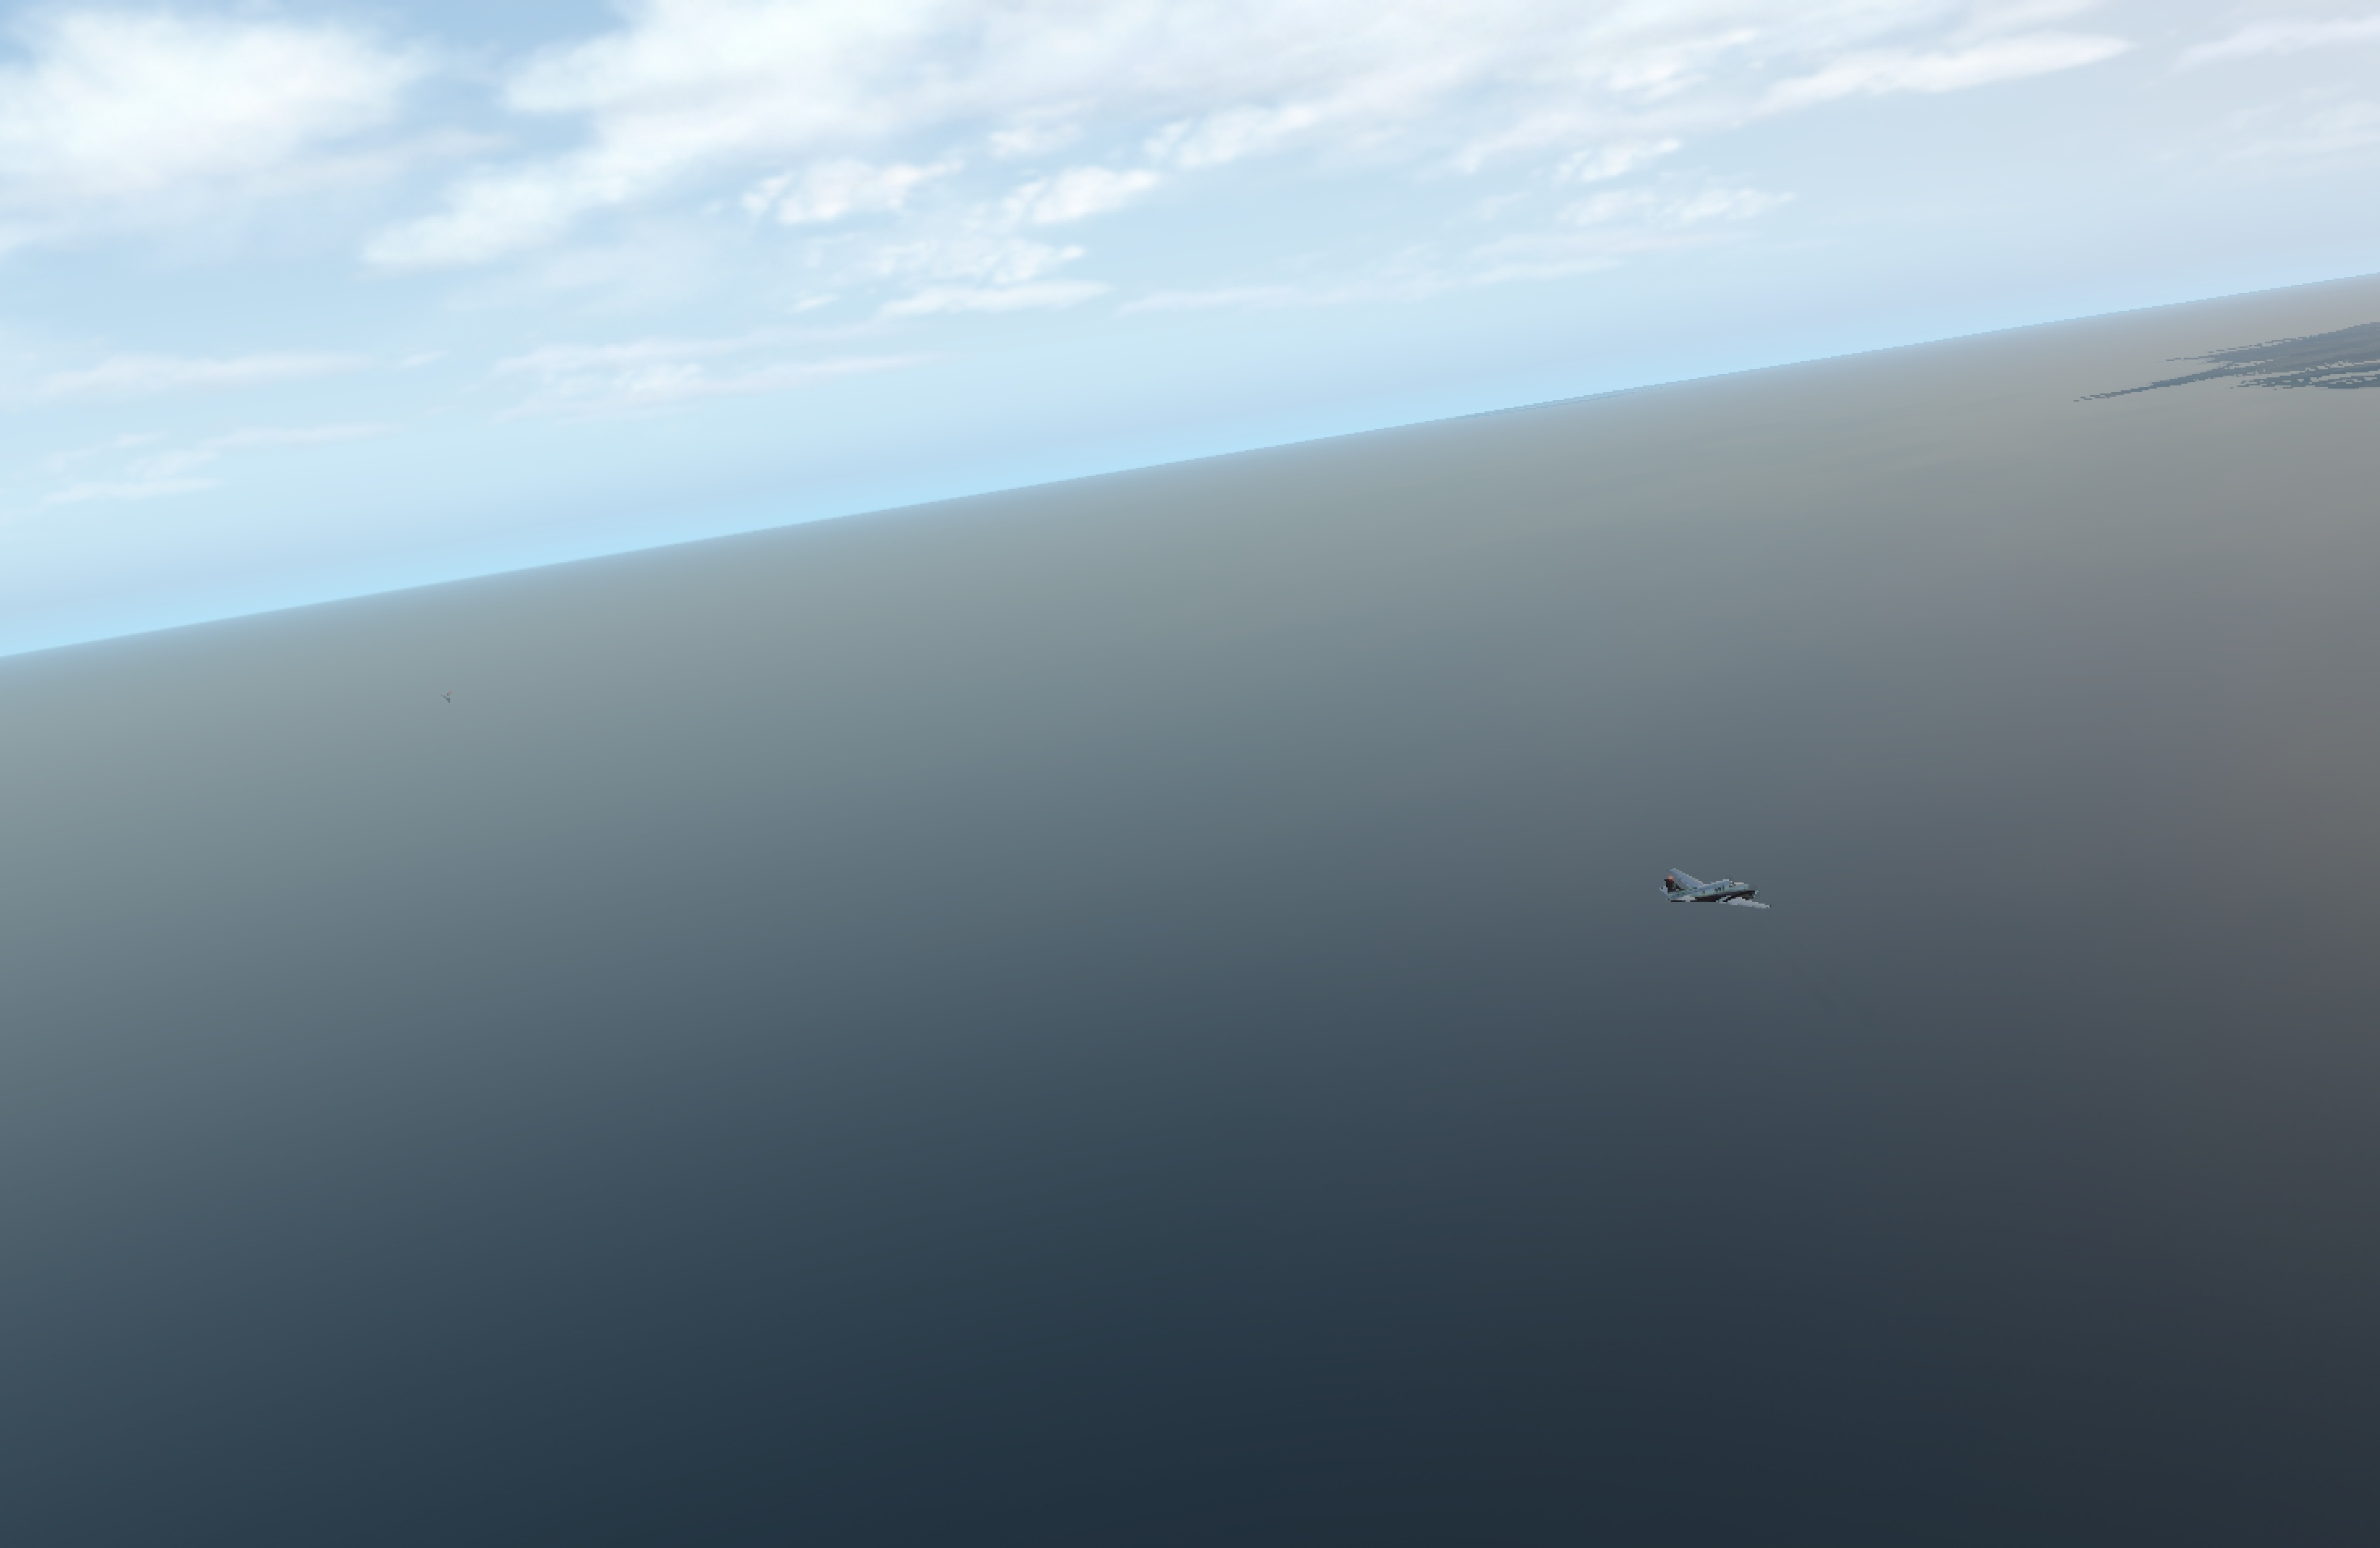aircraft: (1650, 868, 1795, 923)
